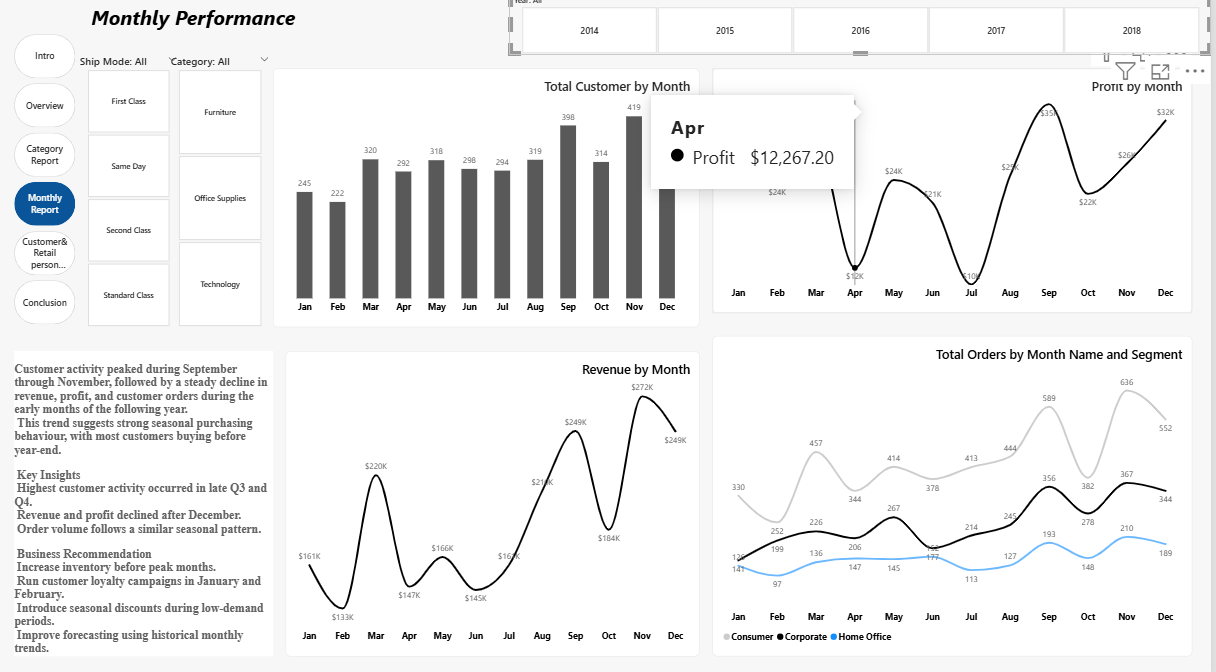

The page's visual inventory and layout, read from the dashboard file:
{"tool":"powerbi","page":{"name":"Monthly Report","canvas":[1920,1080],"ordinal":3},"visuals":[{"type":"lineChart","title":"Profit by Month ","fields":{"Category":["Calendar Table.Month Name"],"Y":["KPI.Profit"]},"box":[1130,116,760,388],"z":0},{"type":"clusteredColumnChart","title":"Total Customer by Month","fields":{"Category":["Calendar Table.Month Name"],"Y":["KPI.Total Customer"]},"box":[434,116,676,410],"z":1000},{"type":"lineChart","fields":{"Category":["Calendar Table.Month Name"],"Series":["Retails Order Full Dataset.Segment"],"Y":["KPI.Total Orders"]},"box":[1130,540,760,508],"z":2000},{"type":"textbox","box":[146.5,12.8,516.6,64.1],"z":3000},{"type":"slicer","fields":{"Values":["Calendar Table.Year"]},"box":[808,0,1112,94],"z":4000},{"type":"lineChart","title":"Revenue by Month","fields":{"Y":["KPI.Revenue"],"Category":["Calendar Table.Month Name"]},"box":[454,564,656,484],"z":5000},{"type":"slicer","fields":{"Values":["Retails Order Full Dataset.Category"]},"box":[263.8,93.4,170.4,432.3],"z":6000},{"type":"slicer","fields":{"Values":["Retails Order Full Dataset.Ship Mode"]},"box":[120.9,93.4,168.5,432.3],"z":7000},{"type":"shape","box":[23.8,564.2,410.3,483.6],"z":8000},{"type":"textbox","box":[23.8,582.5,410.3,465.3],"z":9000},{"type":"pageNavigator","box":[23.8,62.3,97.1,463.5],"z":10000}]}

Visuals, with their boxes in screenshot pixels (x1, y1, x2, y2), scaled from the page's 1920x1080 canvas onto the 1216x672 screenshot:
"Profit by Month " lineChart: detection(716, 72, 1197, 314)
"Total Customer by Month" clusteredColumnChart: detection(275, 72, 703, 327)
lineChart - Calendar Table.Month Name x Retails Order Full Dataset.Segment: detection(716, 336, 1197, 652)
textbox: detection(93, 8, 420, 48)
slicer - Calendar Table.Year: detection(512, 0, 1215, 58)
"Revenue by Month" lineChart: detection(288, 351, 703, 652)
slicer - Retails Order Full Dataset.Category: detection(167, 58, 275, 327)
slicer - Retails Order Full Dataset.Ship Mode: detection(77, 58, 183, 327)
shape: detection(15, 351, 275, 652)
textbox: detection(15, 362, 275, 652)
pageNavigator: detection(15, 39, 77, 327)
